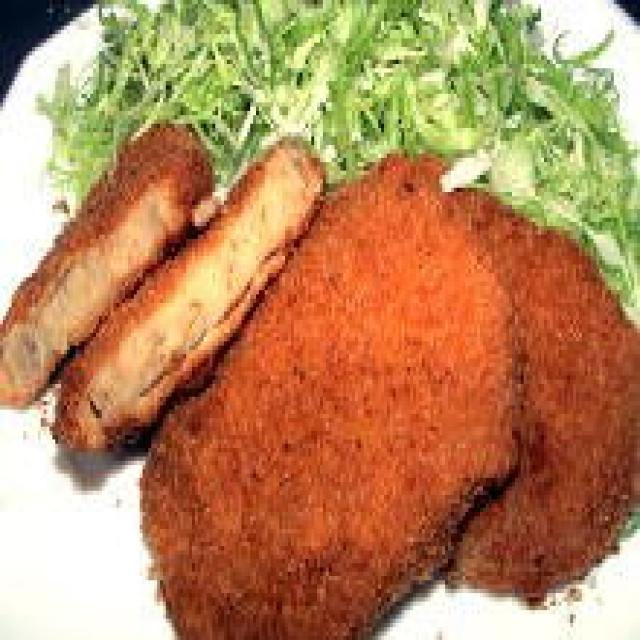炸货点心: (0, 307, 640, 640)
